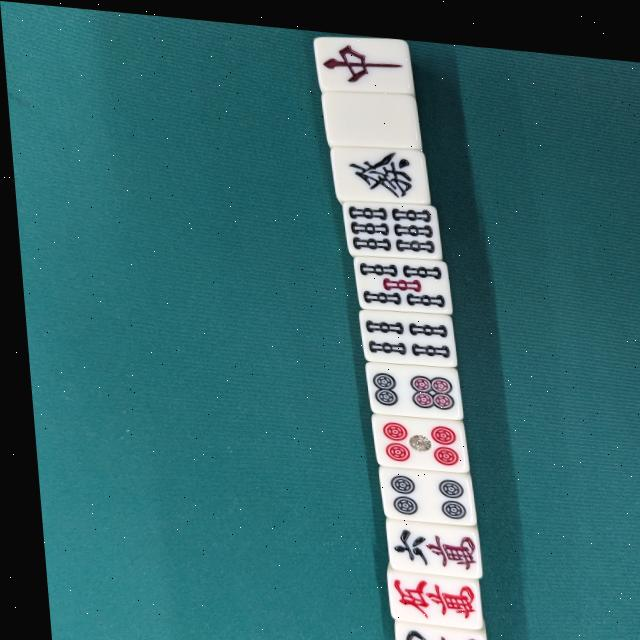4m: (383, 613, 478, 640)
4p: (370, 457, 470, 516)
4s: (353, 299, 453, 361)
5s: (350, 243, 449, 309)
6m: (377, 510, 474, 569)
6p: (360, 351, 457, 412)
6s: (340, 189, 439, 254)
D5m: (378, 562, 473, 620)
D5p: (366, 404, 462, 464)
haku: (321, 85, 421, 142)
hatu: (329, 139, 429, 197)
tyun: (314, 27, 416, 99)
